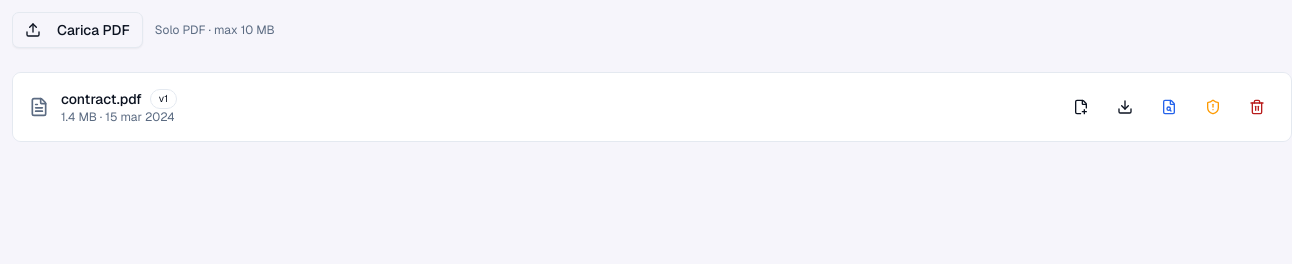
Test: DocumentsTab › clause risk analysis › shows a positive message when no risky clauses are found
Click the button titled "Rileva clausole a rischio": click(1213, 107) [1195,91,1231,123]
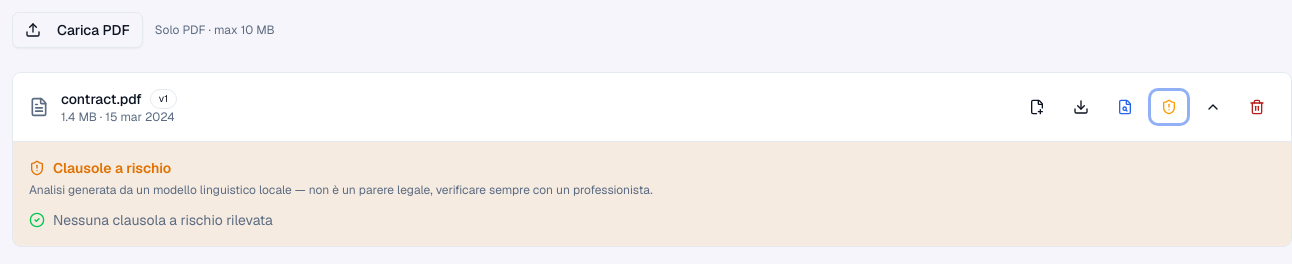
Expected: the text "Nessuna clausola a rischio rilevata" is shown, [29,211,273,229]
